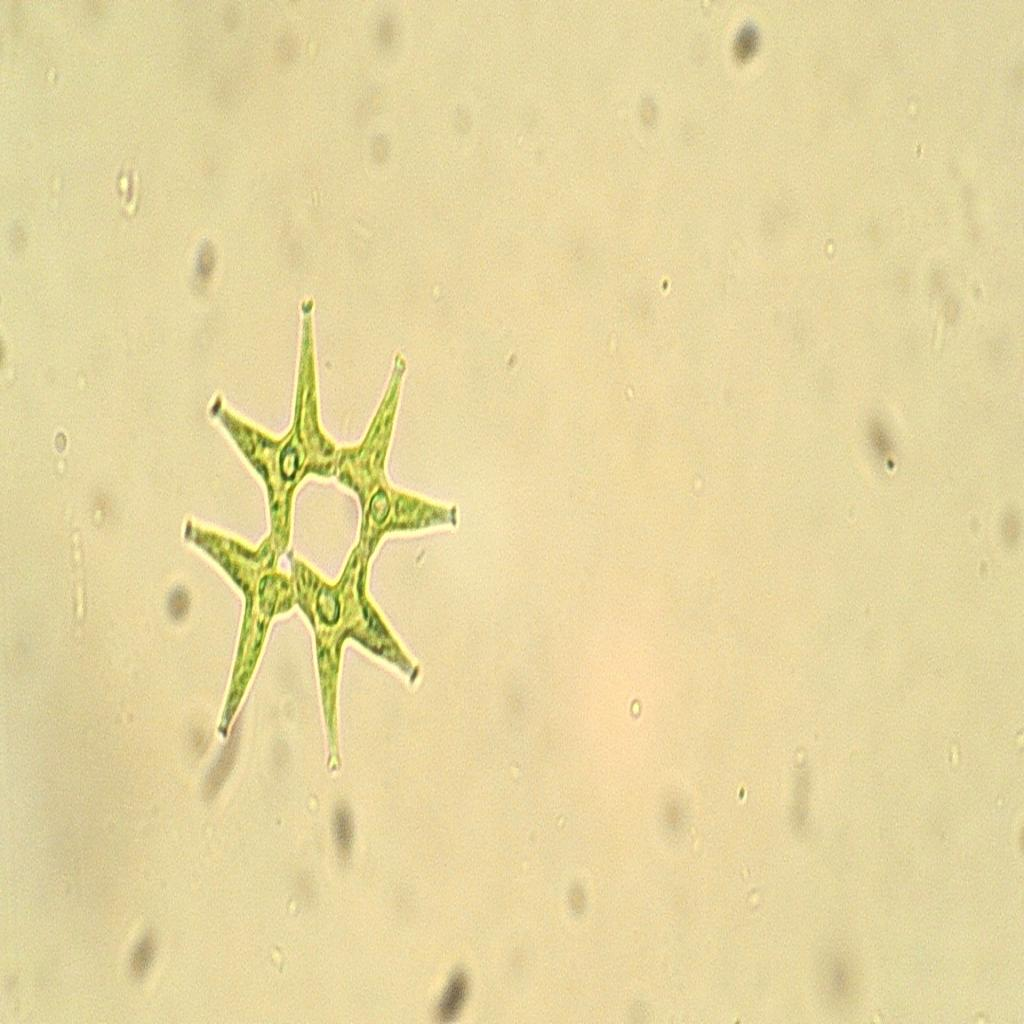Pediastrum_75FO: (159, 279, 477, 798)
